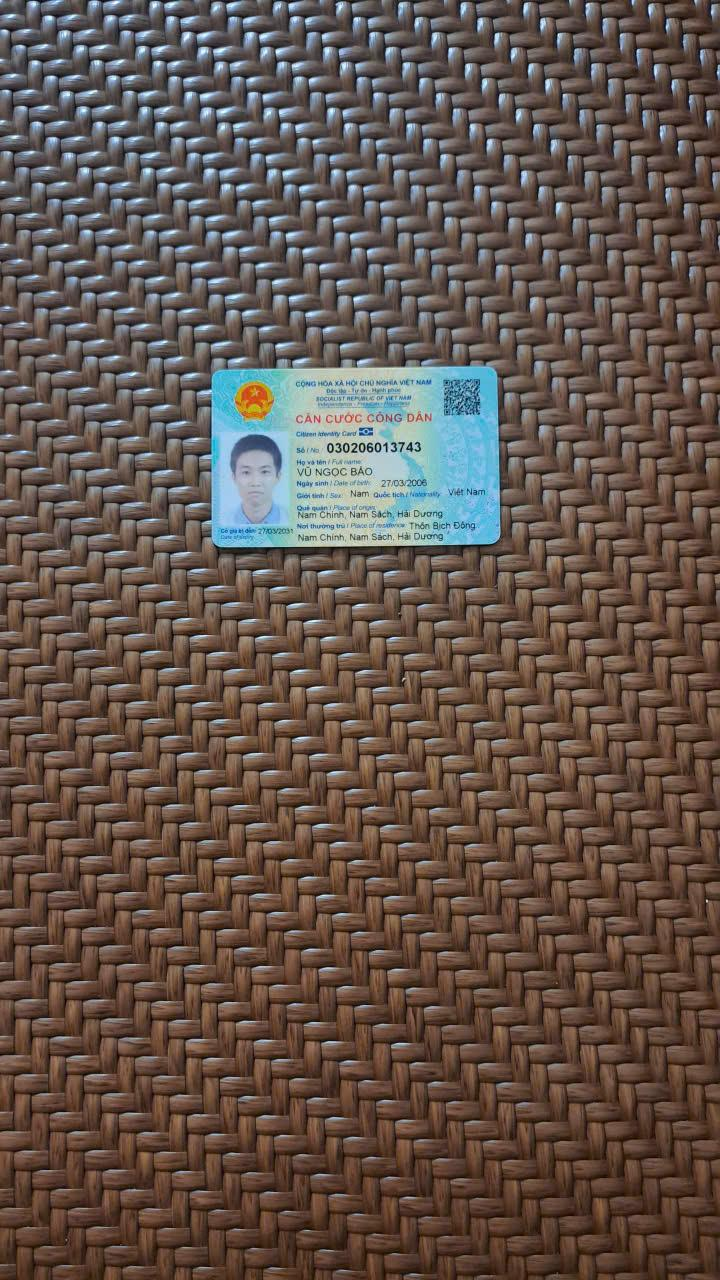cccd: (204, 361, 507, 556)
